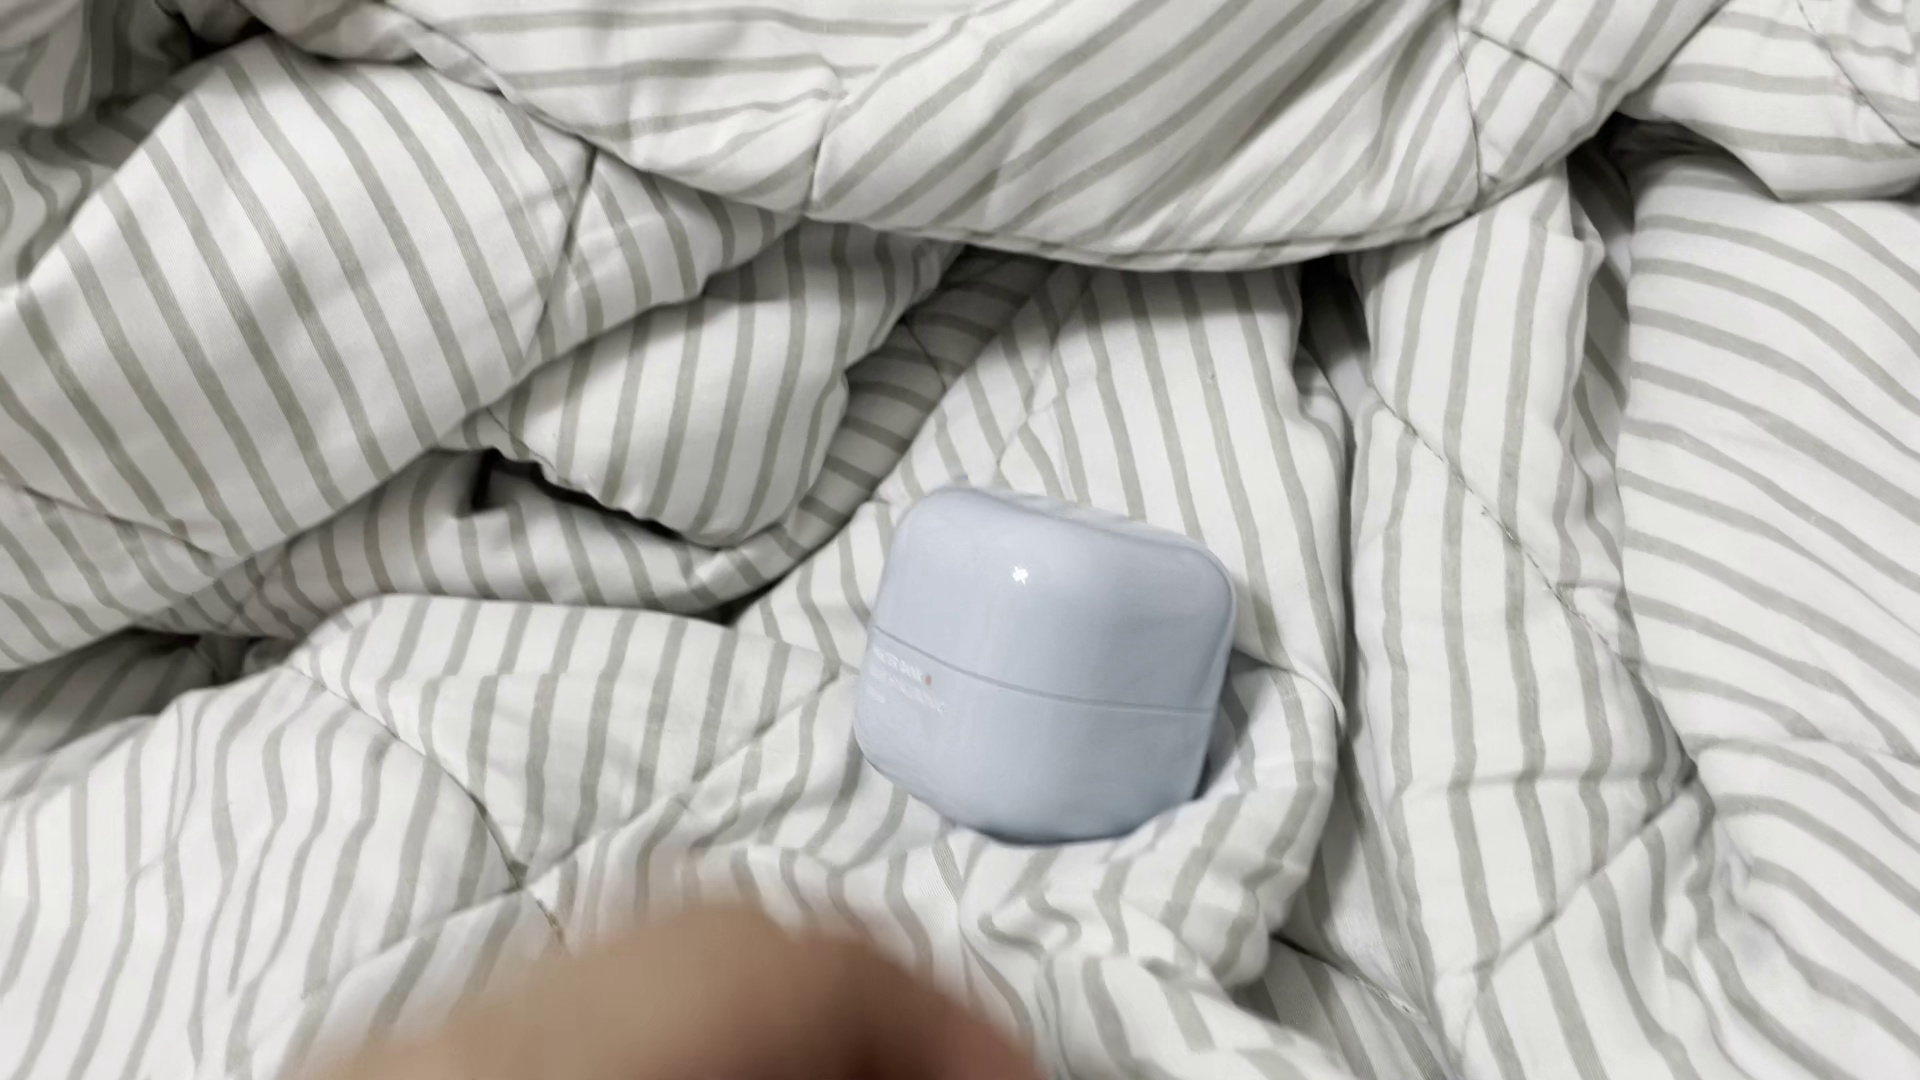cream: (848, 480, 1240, 848)
